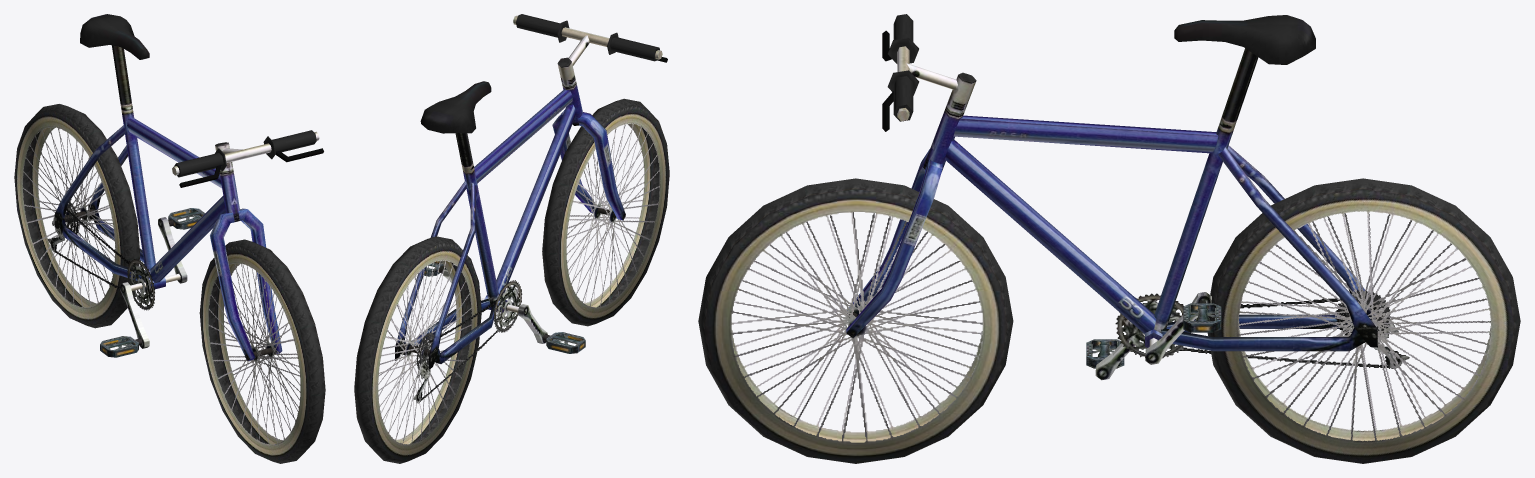
Rendered from bike-2.FBX.
3 renders of one model, left to right at view 1: azimuth 30°, elevation 25°; view 2: azimuth 150°, elevation 25°; view 3: azimuth 270°, elevation 25°, orthographic. The views are drawn at different scales.
Parts seen in each view (by area): view 1: bicycle-2_LOD0, F_Wheel_LOD0, R_Wheel_LOD0; view 2: bicycle-2_LOD0, F_Wheel_LOD0, R_Wheel_LOD0; view 3: bicycle-2_LOD0, F_Wheel_LOD0, R_Wheel_LOD0.
Boxes of the visible parts, x1=… form: bicycle-2_LOD0: x1=48, y1=14, x2=323, y2=360; F_Wheel_LOD0: x1=199, y1=239, x2=325, y2=463; R_Wheel_LOD0: x1=14, y1=104, x2=140, y2=328; bicycle-2_LOD0: x1=395, y1=14, x2=667, y2=403; F_Wheel_LOD0: x1=542, y1=98, x2=669, y2=326; R_Wheel_LOD0: x1=354, y1=236, x2=481, y2=463; bicycle-2_LOD0: x1=846, y1=14, x2=1409, y2=380; F_Wheel_LOD0: x1=698, y1=178, x2=1013, y2=463; R_Wheel_LOD0: x1=1207, y1=178, x2=1520, y2=463.
Size of what is drawn, in the model's own units: 19.88 by 42.93 by 72.4.
